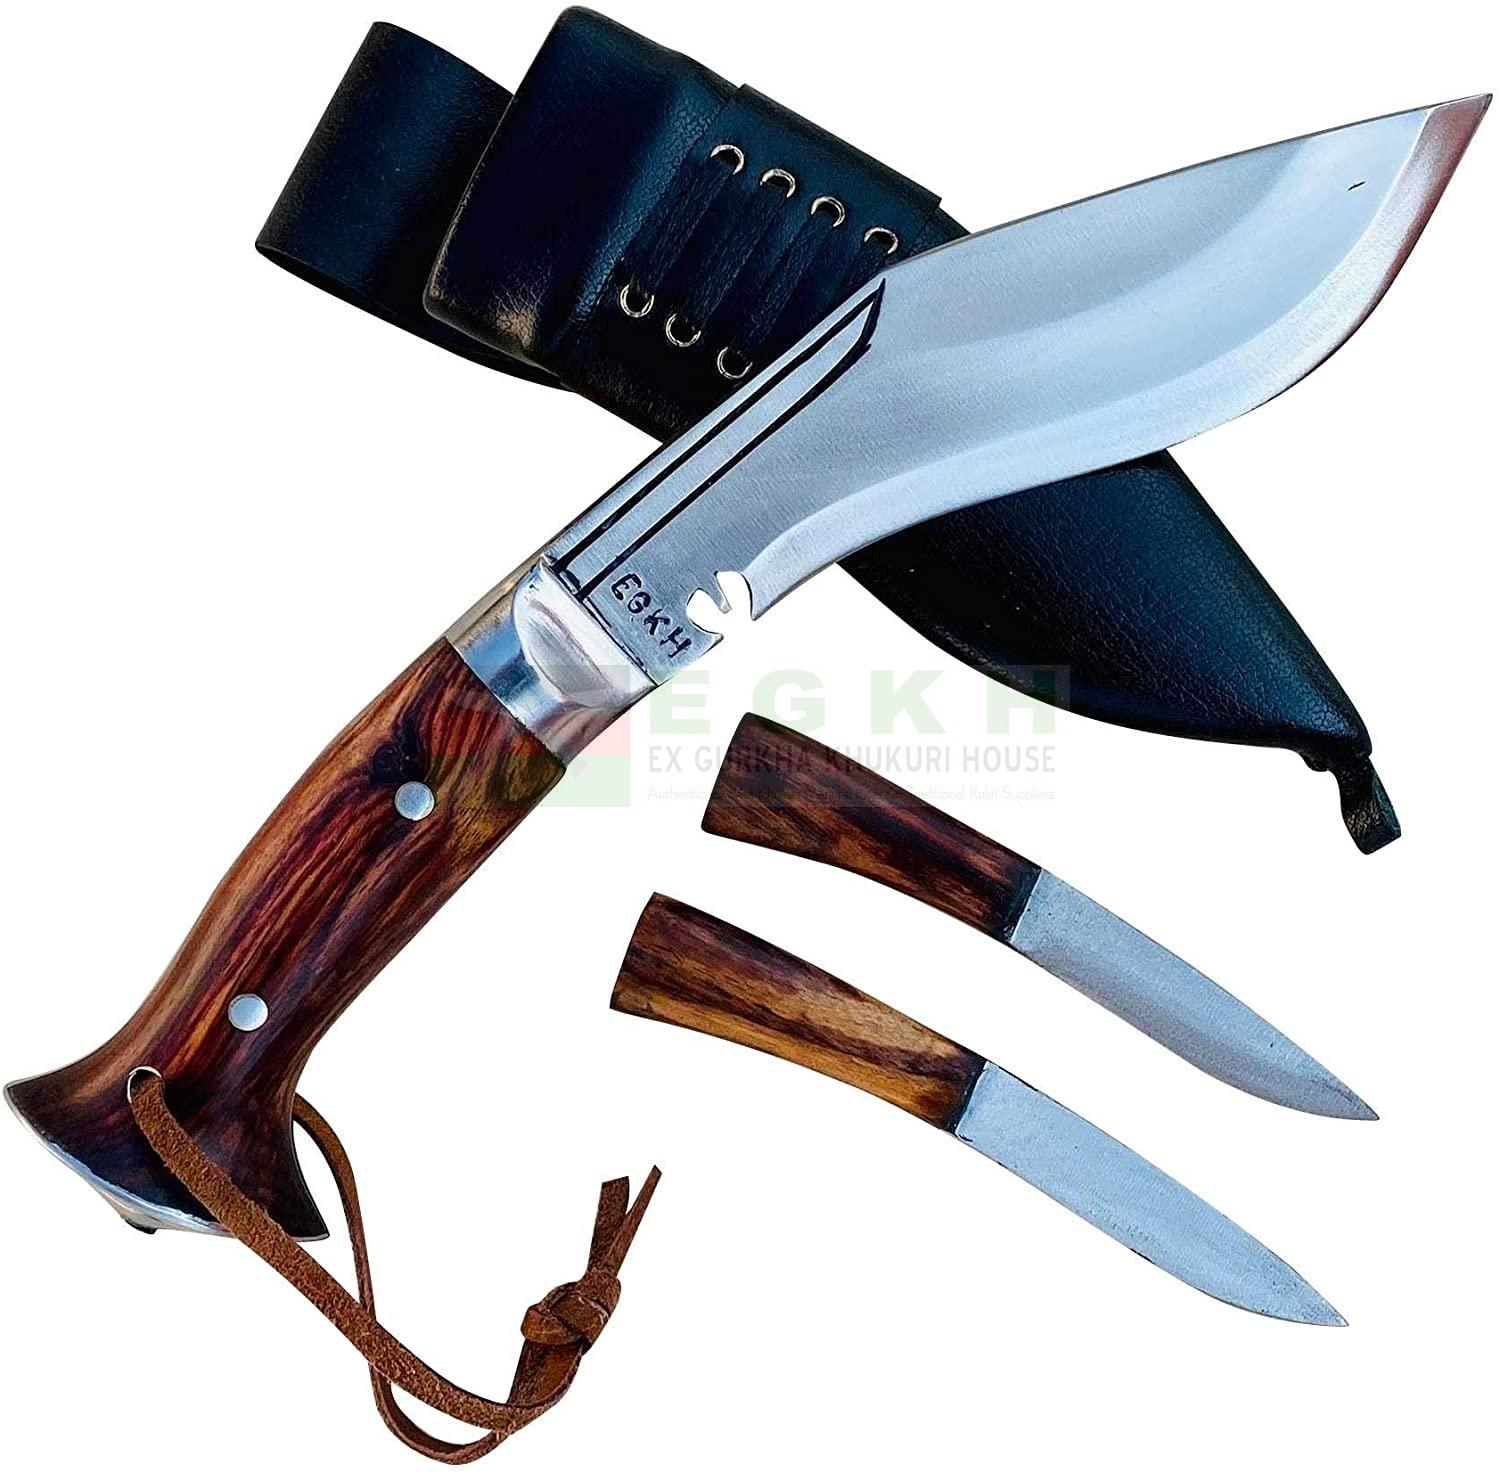faca: (9, 94, 1487, 1239), (612, 895, 1342, 1325), (702, 714, 1376, 1117)
